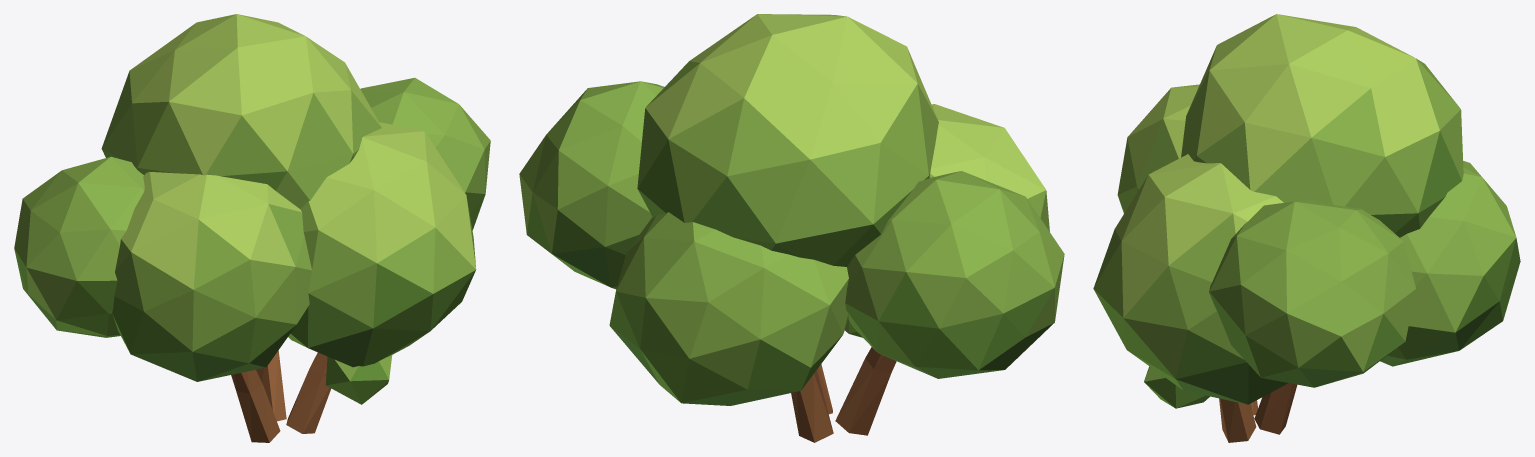
File: FMS_Bush_Round.fbx
3 renders of one model, left to right at view 1: azimuth 30°, elevation 25°; view 2: azimuth 150°, elevation 25°; view 3: azimuth 270°, elevation 25°, orthographic. The views are drawn at different scales.
Parts seen in each view (by area): view 1: FMS_Bush_Round; view 2: FMS_Bush_Round; view 3: FMS_Bush_Round.
Part boxes in pixels (box(x1,y1,x2,y2)): FMS_Bush_Round: box(14, 14, 490, 442); FMS_Bush_Round: box(519, 14, 1064, 442); FMS_Bush_Round: box(1093, 14, 1520, 442).
Size of the model in its own units: 1.28 by 1.02 by 0.9852.
